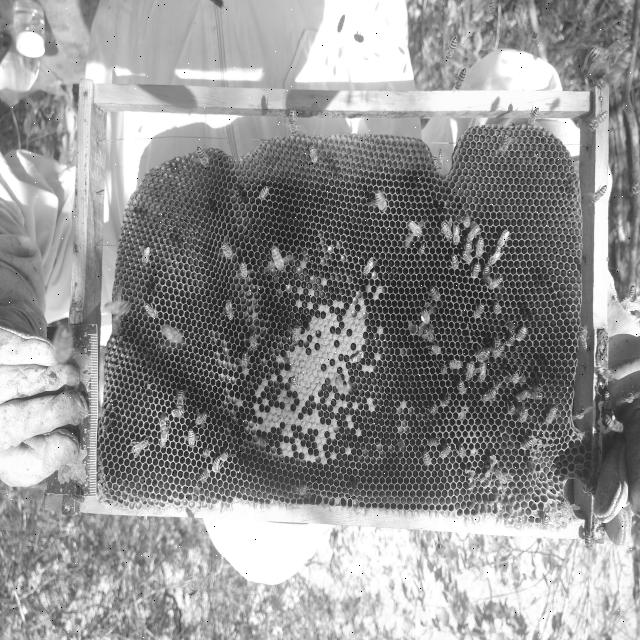cria: (202, 221, 421, 497)
marco: (92, 107, 581, 509)
